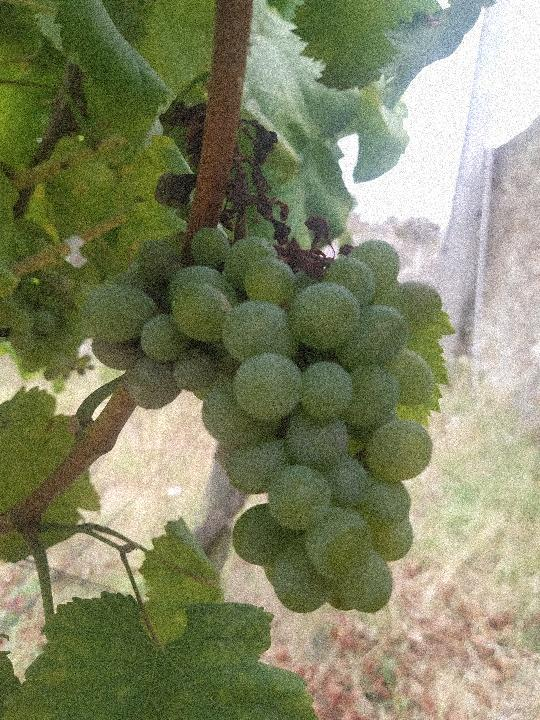grape: (78, 98, 446, 615)
